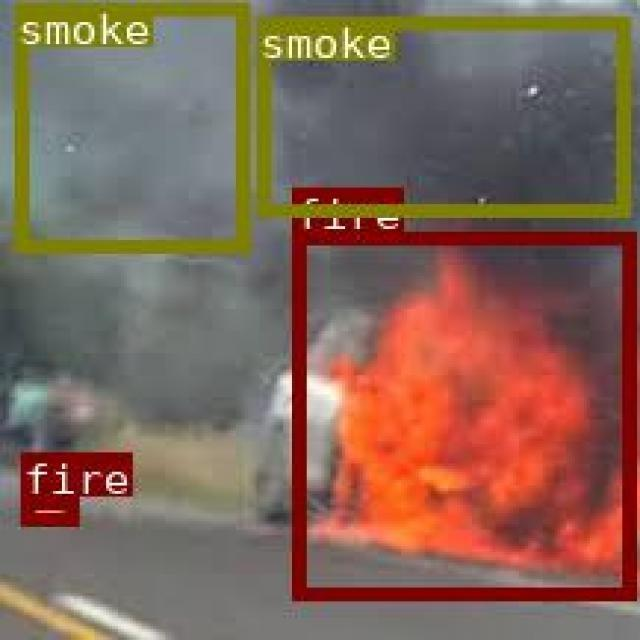fire: (292, 230, 633, 597), (20, 494, 75, 523)
smoke: (256, 15, 628, 213), (14, 2, 246, 250)
